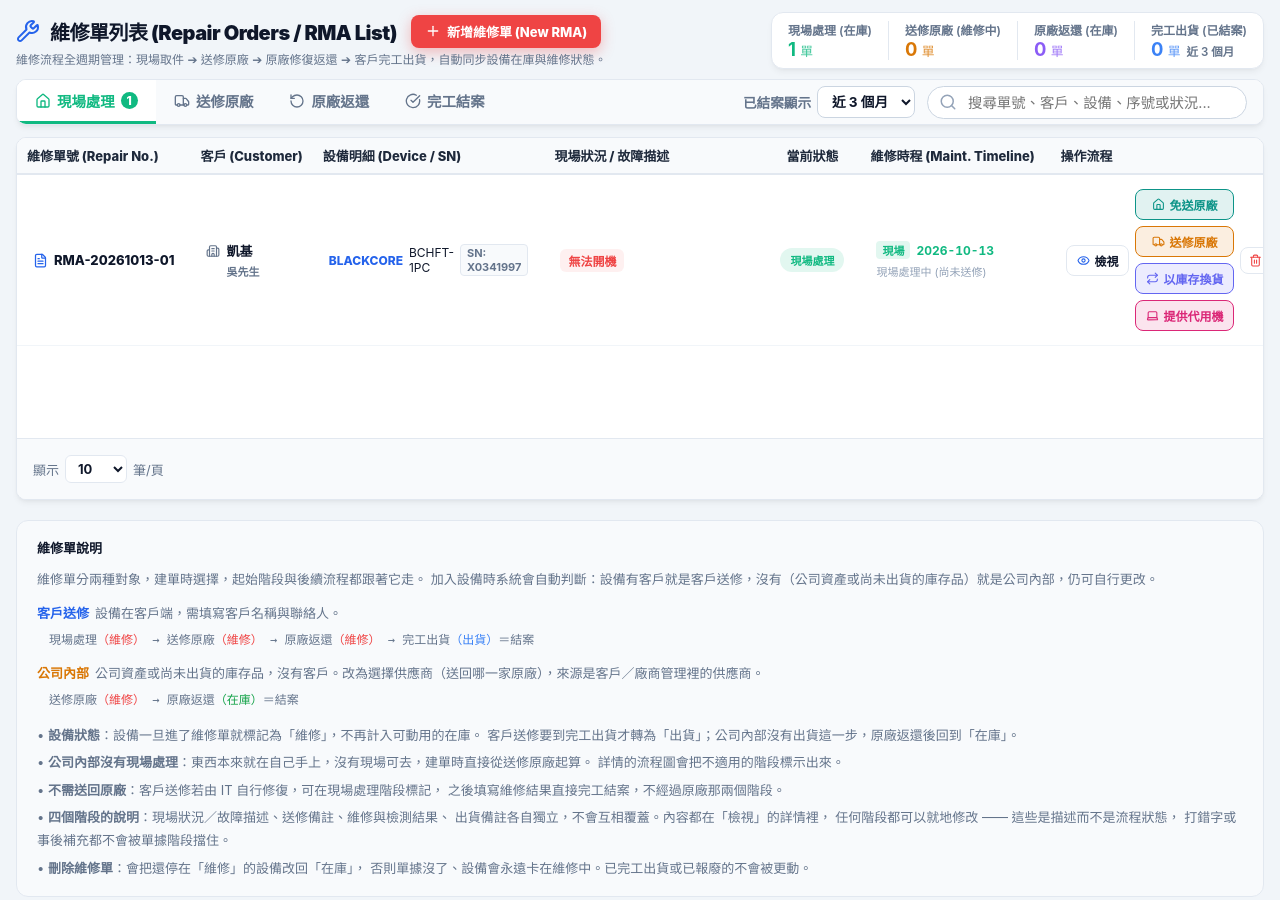
Test: 維修單列表 › 客戶送修、現場處理階段有「以庫存換貨」，按下開啟換貨視窗
The width and height of the screenshot is (1280, 900).
expect the text "RMA-20261013-01" is shown: met, box [54,252,174,268]
Click the button "以庫存換貨" at (1185, 278), box [1135,263,1234,294]
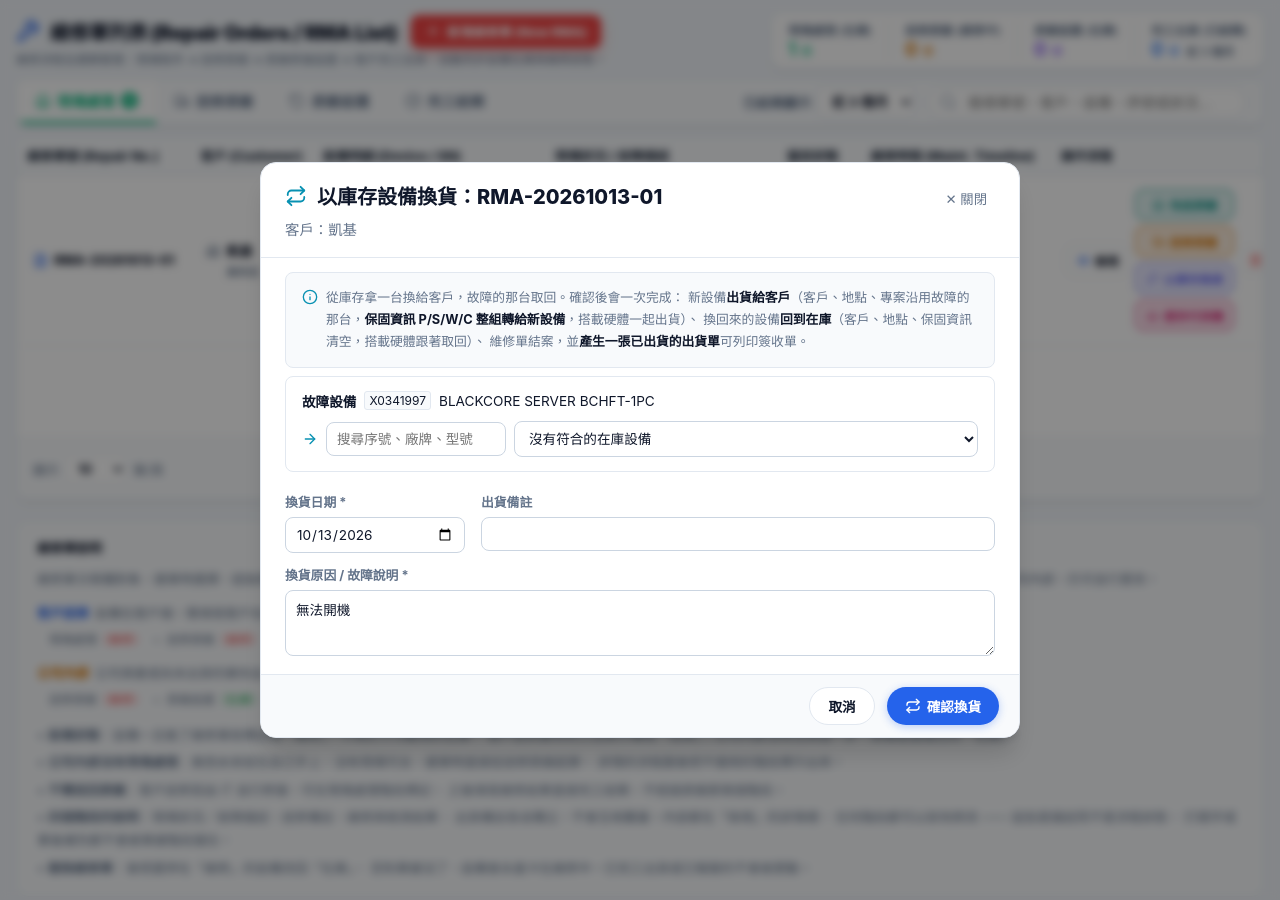
expect the dialog "以庫存設備換貨" is shown: met, box [260,162,1020,738]
